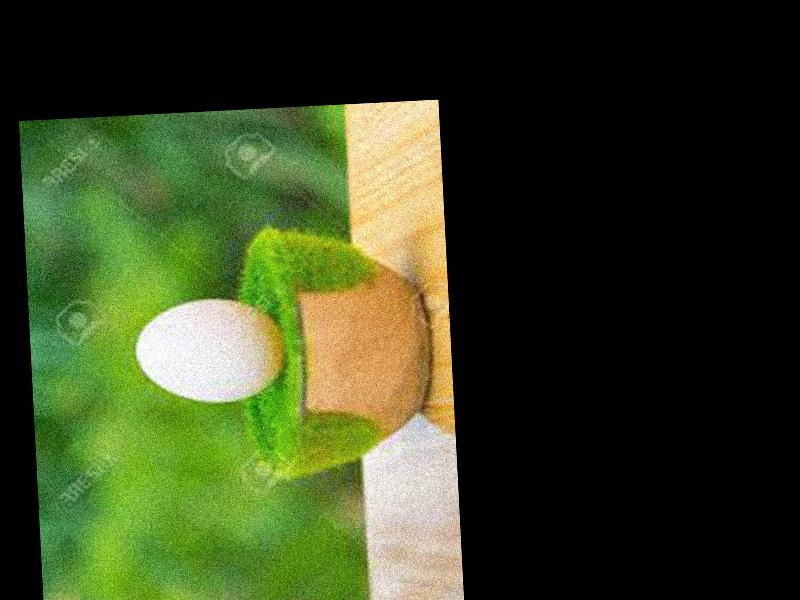Eggs: (136, 297, 286, 408)
